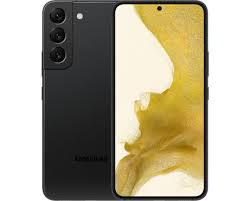Smartphone: (113, 3, 208, 195), (41, 0, 118, 199)
